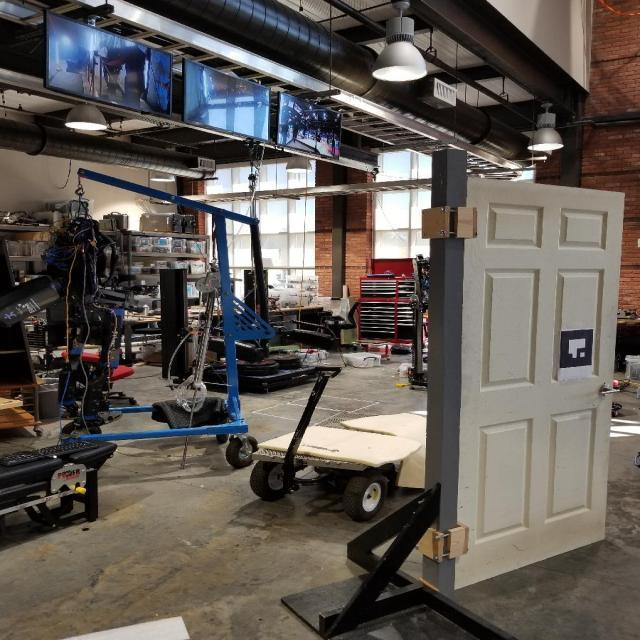door: (450, 175, 626, 593), (597, 382, 620, 399)
